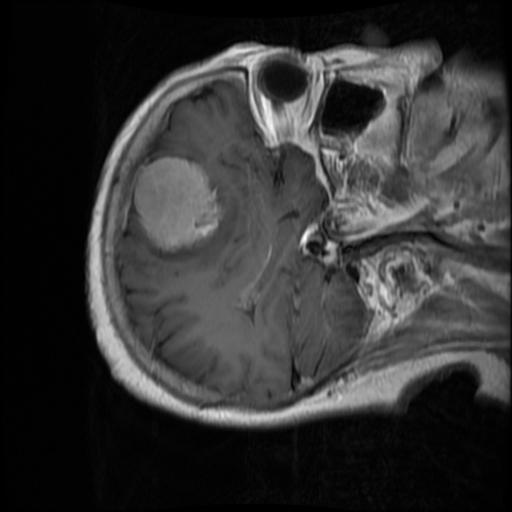meningioma: (132, 157, 219, 254)
